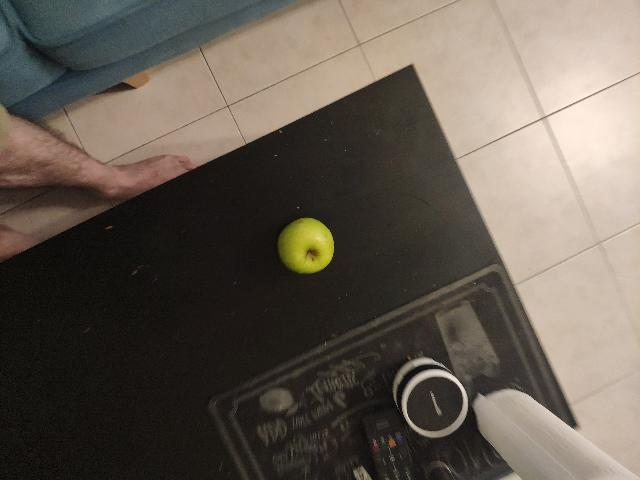apple: (277, 210, 342, 275)
